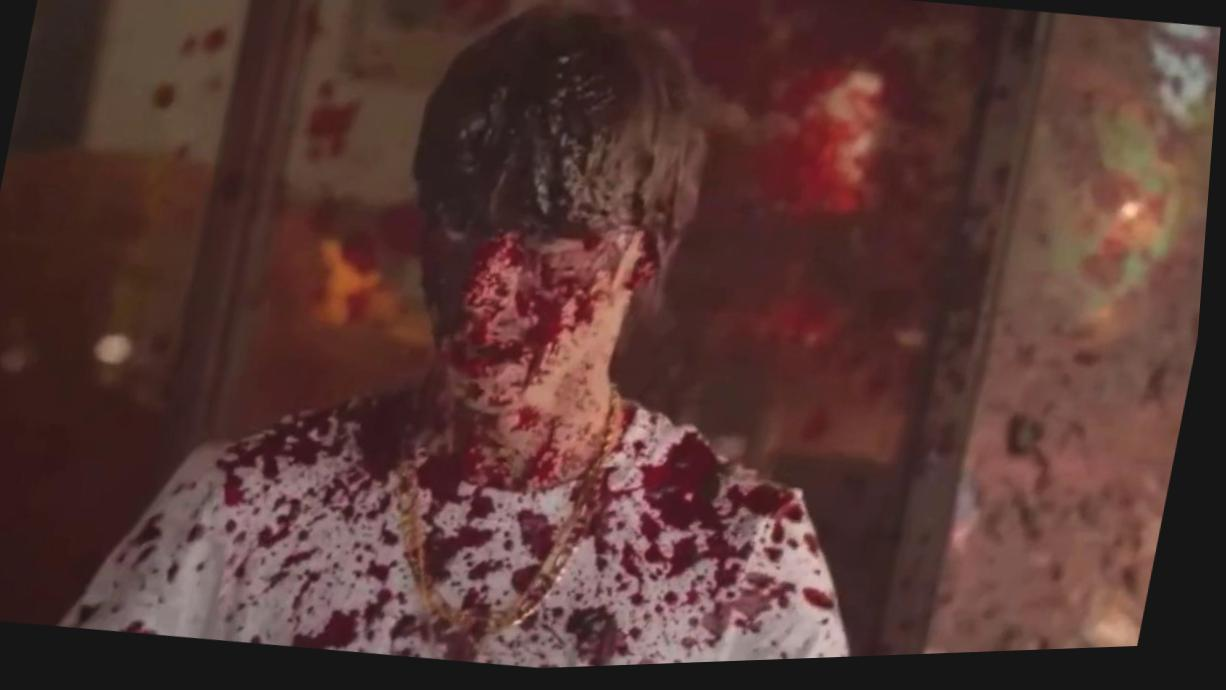Fire: (57, 0, 1222, 673)
